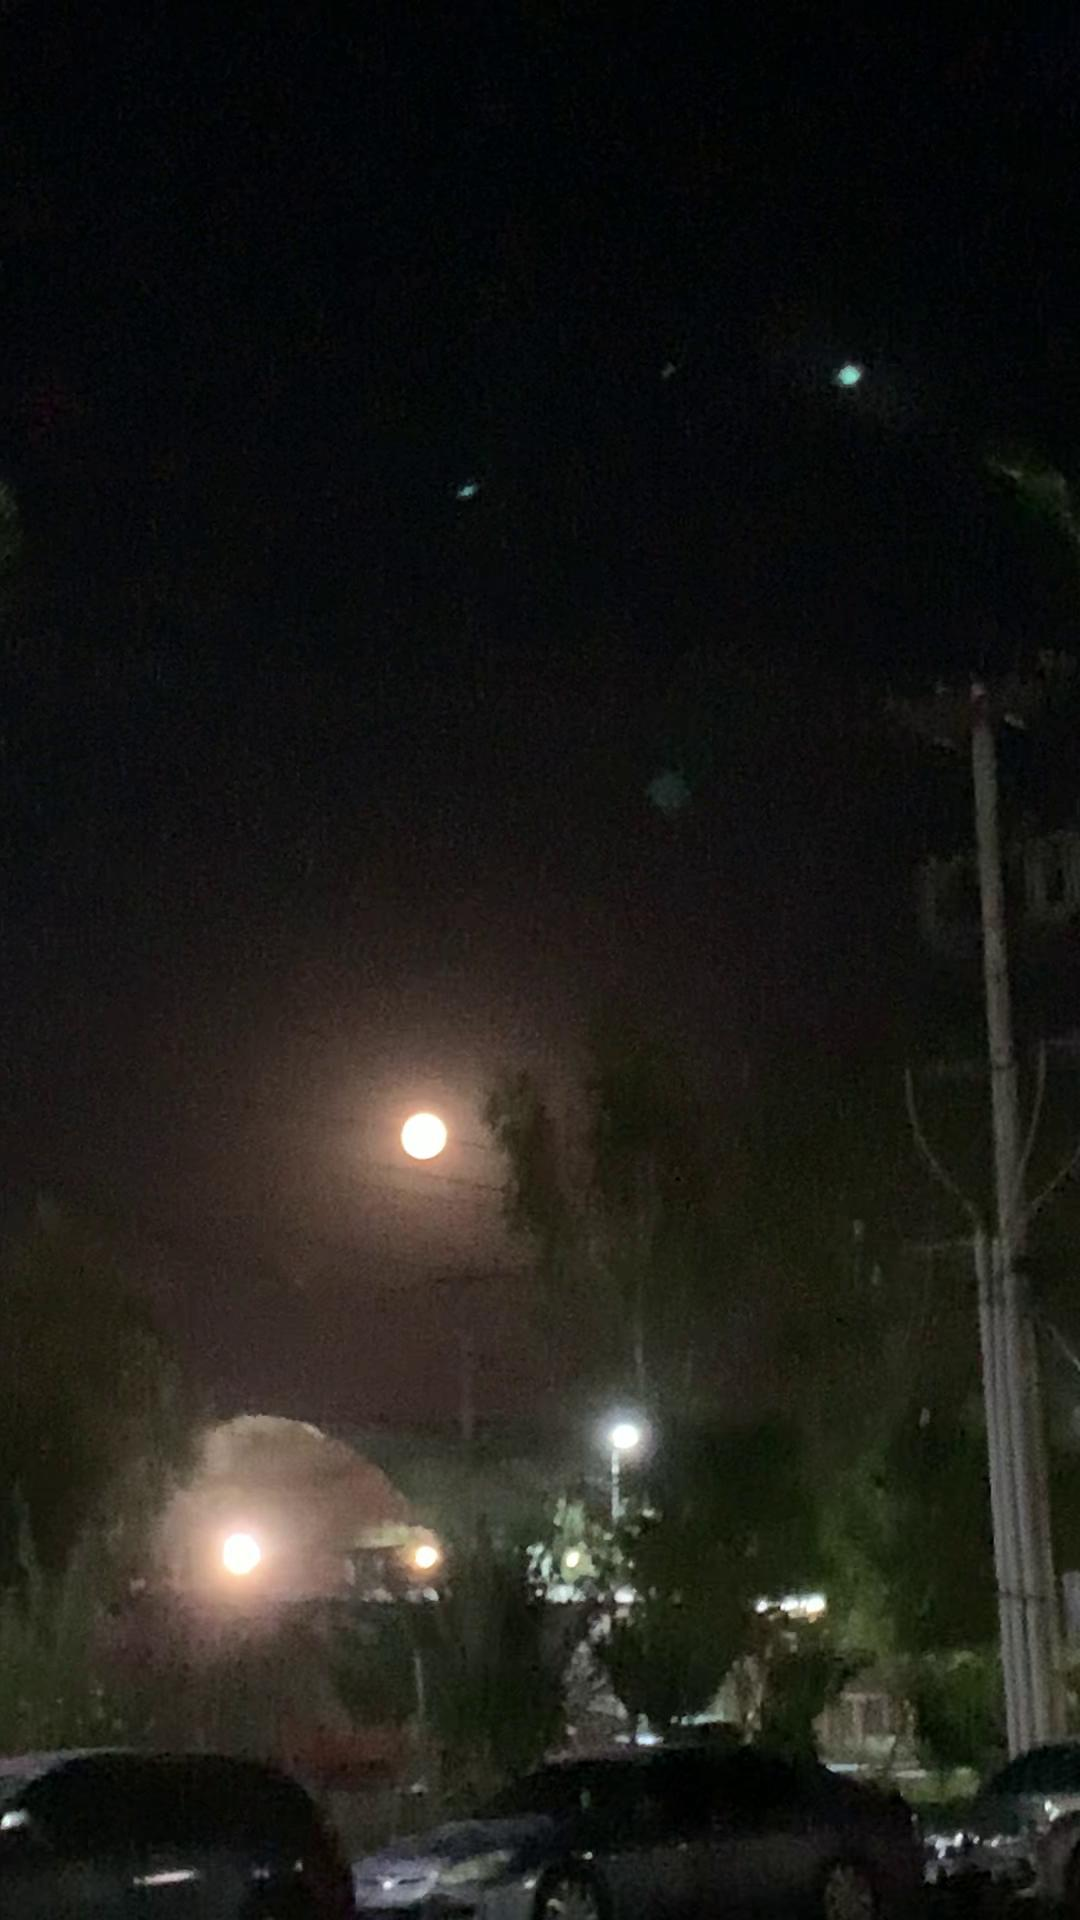moon: (381, 1084, 469, 1160)
